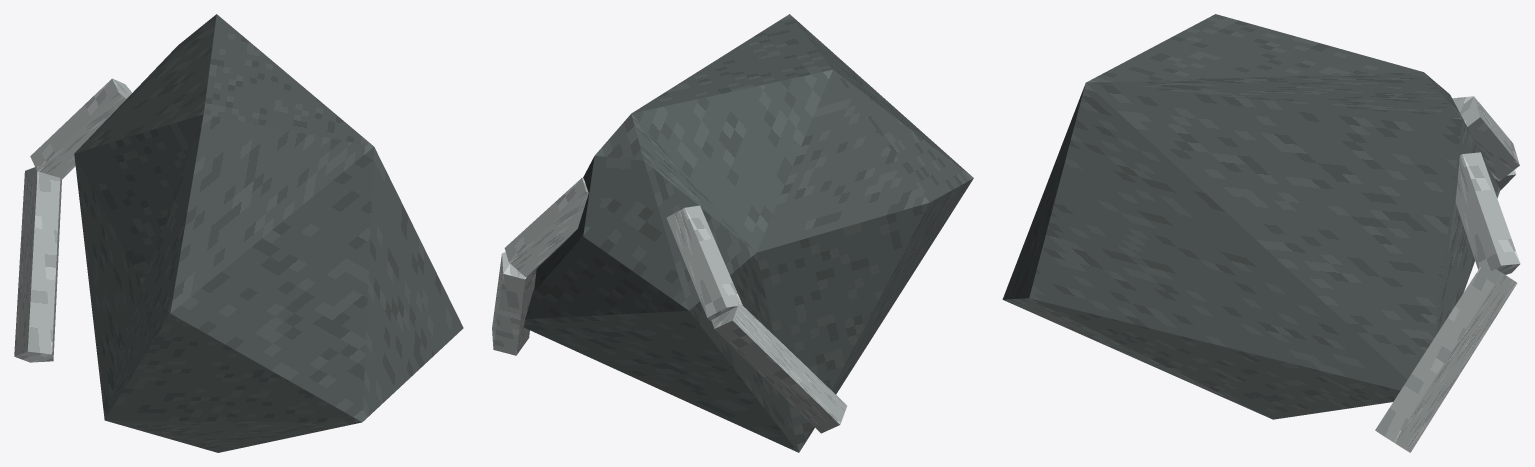
Rendered from f_string_dimension_housing_imploded.glb.
3 views of the same model, side by side, from view 1: azimuth 30°, elevation 25°; view 2: azimuth 150°, elevation 25°; view 3: azimuth 270°, elevation 25° (orthographic). The views are drawn at different scales.
Parts seen in each view (by area): view 1: block_collapsed-dense-metal-ball, block_buckled-edge-1, block_buckled-edge-2; view 2: block_collapsed-dense-metal-ball, block_buckled-edge-1 (×2), block_buckled-edge-2 (×2); view 3: block_collapsed-dense-metal-ball, block_buckled-edge-1, block_buckled-edge-2 (×2).
Boxes of the visible parts, left/top/right/bottom form: block_collapsed-dense-metal-ball: left=74, top=14, right=463, bottom=452; block_buckled-edge-1: left=14, top=166, right=61, bottom=362; block_buckled-edge-2: left=30, top=78, right=131, bottom=180; block_collapsed-dense-metal-ball: left=524, top=14, right=973, bottom=452; block_buckled-edge-1 (×2): left=492, top=252, right=847, bottom=433; block_buckled-edge-2 (×2): left=504, top=177, right=742, bottom=321; block_collapsed-dense-metal-ball: left=1002, top=14, right=1500, bottom=419; block_buckled-edge-1: left=1375, top=267, right=1517, bottom=452; block_buckled-edge-2 (×2): left=1452, top=96, right=1520, bottom=274.
Size of the model in its own units: 0.6853 by 0.6478 by 0.7915.
Materials: 1 (1 with a texture image).
